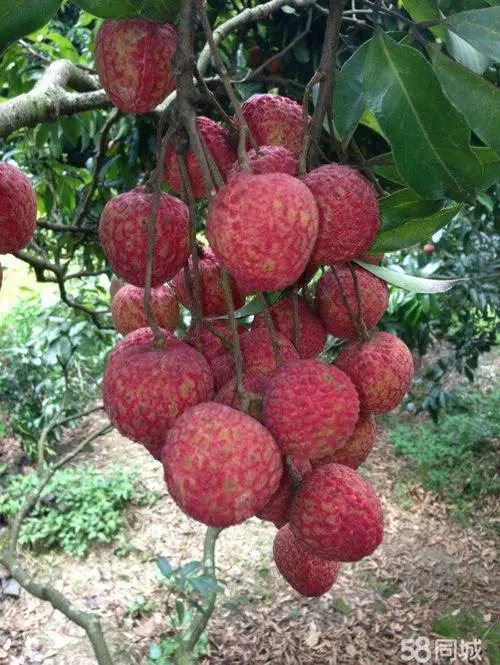litchi: (104, 97, 408, 593)
stem: (299, 0, 348, 153), (167, 1, 204, 144)
